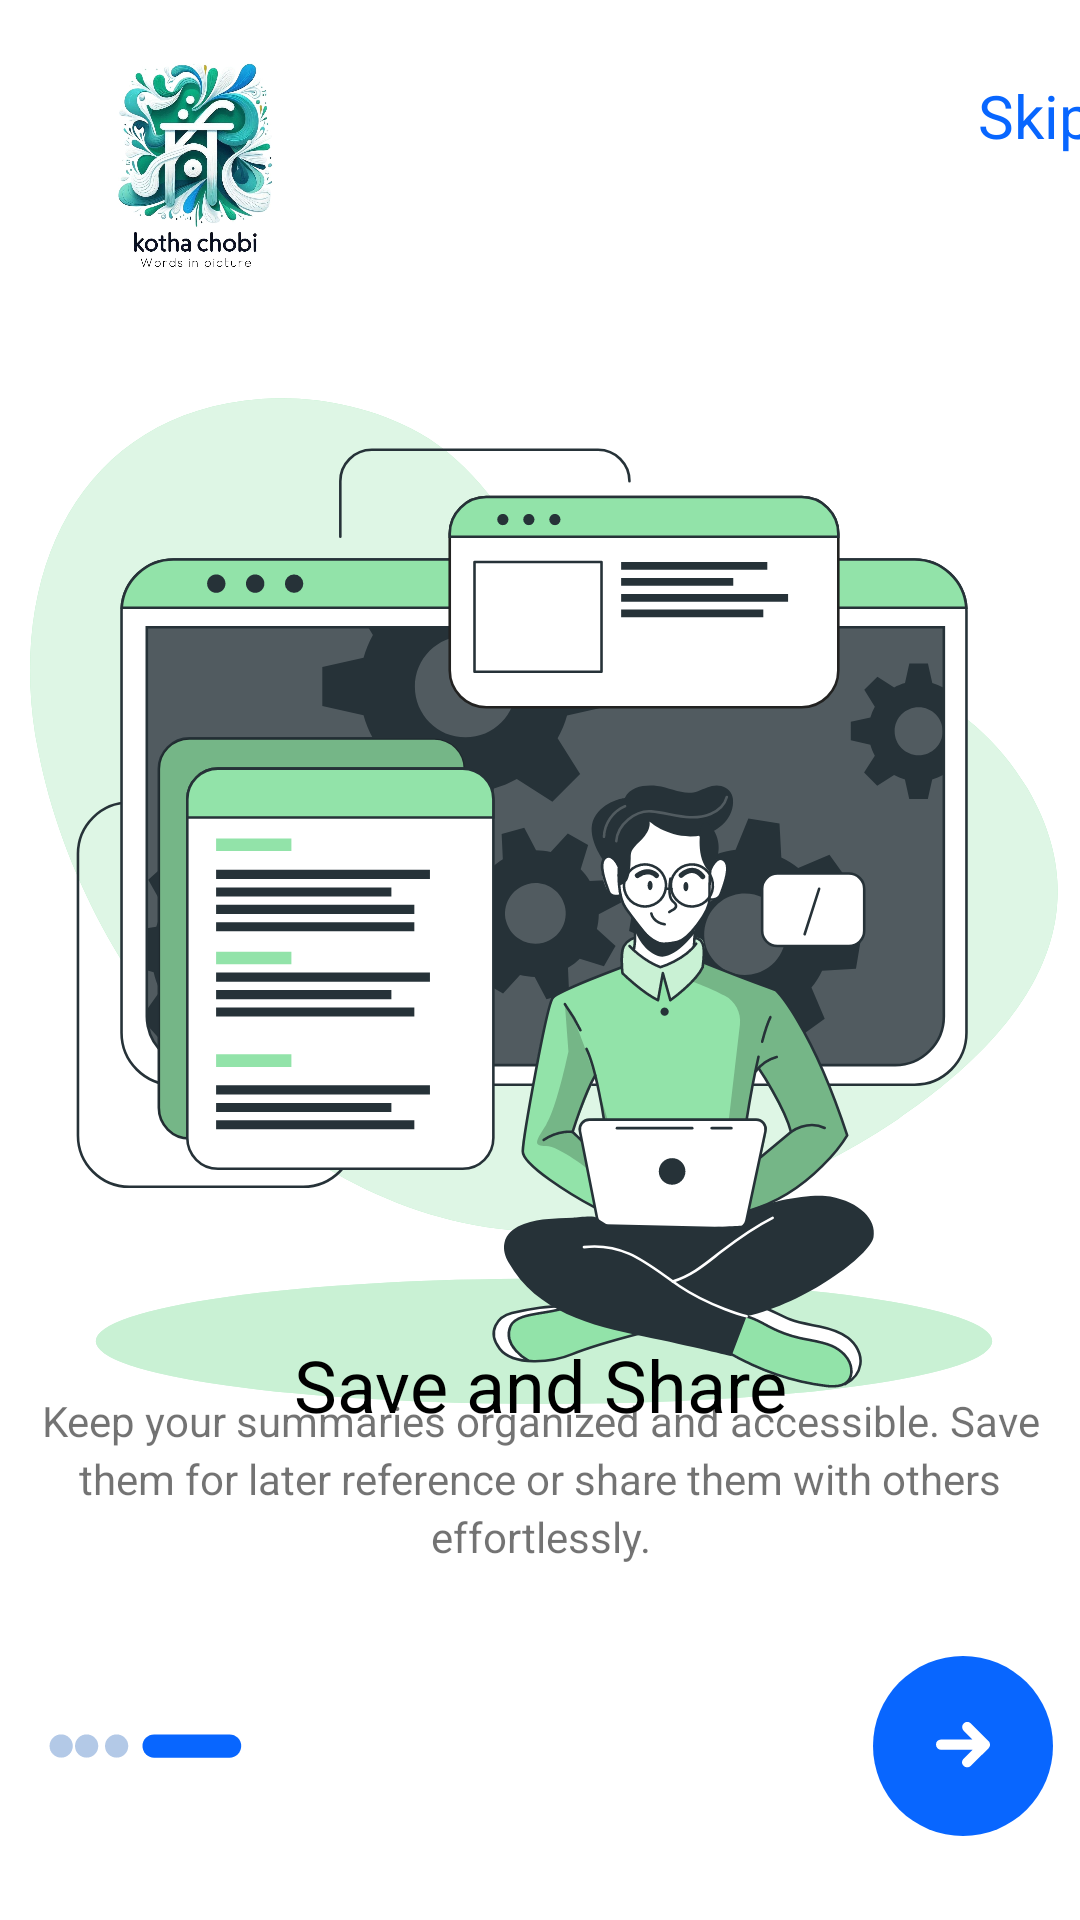

Point at icon controls on the screen. Image size 1080 x 1920, points as (x,y).
next btn: (963,1746)
